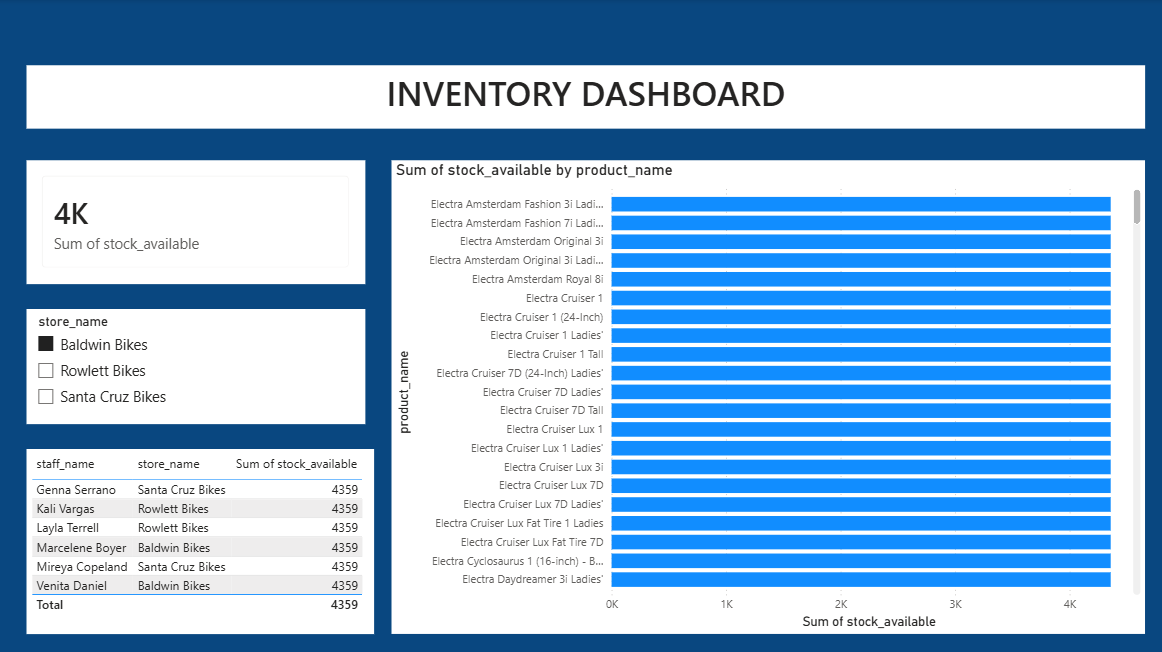

The dashboard page shown, as its layout file describes it:
{"tool":"powerbi","page":{"name":"Inventory Dashboard","canvas":[1280,720],"ordinal":1},"visuals":[{"type":"tableEx","fields":{"Values":["vw_sales_summary.staff_name","vw_sales_summary.store_name","Sum(vw_stock_levels.stock_available)"]},"box":[30.2,494,381.5,203.1],"z":0},{"type":"clusteredBarChart","fields":{"Category":["vw_sales_summary.product_name"],"Y":["Sum(vw_stock_levels.stock_available)"]},"box":[430.9,177,827.4,520.1],"z":1000},{"type":"cardVisual","fields":{"Data":["Sum(vw_stock_levels.stock_available)"]},"box":[30.2,177,371.9,135.8],"z":2000},{"type":"slicer","fields":{"Values":["vw_stock_levels.store_name"]},"box":[30.2,340.3,371.9,126.2],"z":3000},{"type":"textbox","box":[30.2,72.7,1228.1,70],"z":4000}]}

Visuals, with their boxes in screenshot pixels (x1, y1, x2, y2), scaled from the page's 1280x720 canvas onto the 1162x652 screenshot:
tableEx - vw_sales_summary.staff_name x vw_sales_summary.store_name: 27,447,374,631
clusteredBarChart - vw_sales_summary.product_name x Sum(vw_stock_levels.stock_available): 391,160,1142,631
cardVisual - Sum(vw_stock_levels.stock_available): 27,160,365,283
slicer - vw_stock_levels.store_name: 27,308,365,422
textbox: 27,66,1142,129
